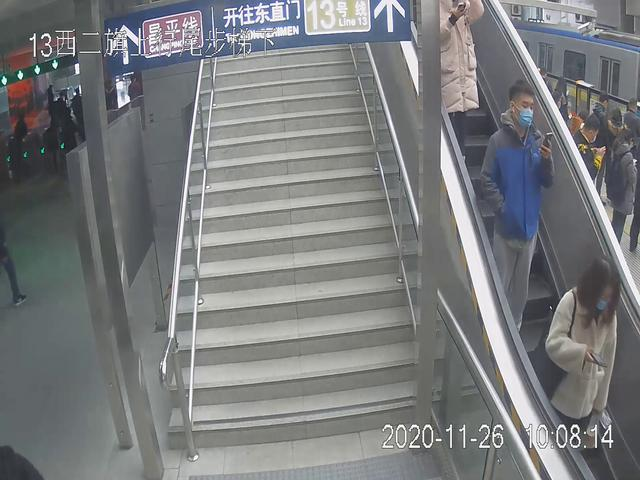person: (481, 75, 555, 353), (537, 254, 625, 461), (434, 1, 486, 177)
